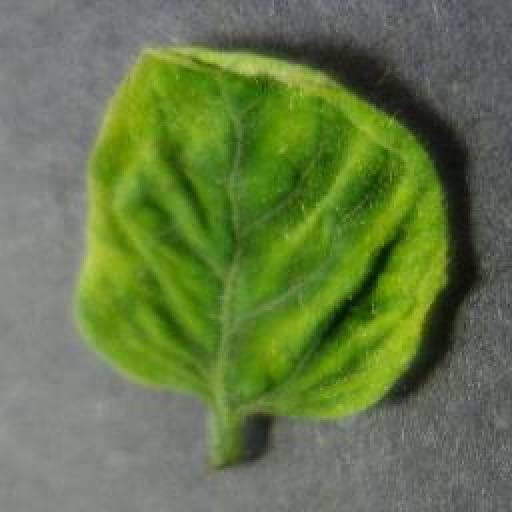Yellow Leaf Curl Virus: (72, 39, 451, 424)
